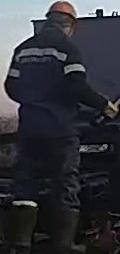gloves: (98, 98, 118, 121)
helmet: (45, 1, 78, 24)
vest: (14, 34, 86, 141)
